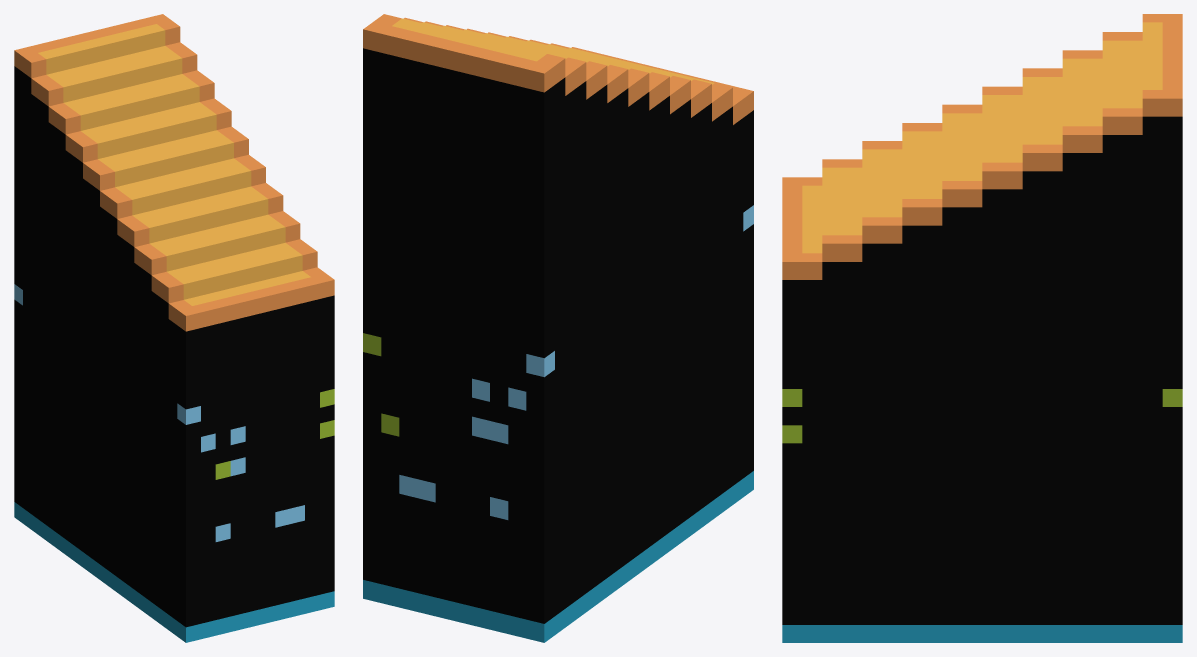
Rendered from orange-dispenser.obj.
3 views of the same model, side by side, from view 1: azimuth 30°, elevation 25°; view 2: azimuth 150°, elevation 25°; view 3: azimuth 270°, elevation 25° (orthographic). The views are drawn at different scales.
Bounding box in the file's own units: 1 × 3 × 2.
Materials: 1 (1 with a texture image).
